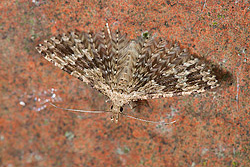Alucitidae: (27, 15, 221, 125)
moth: (29, 17, 223, 127)
